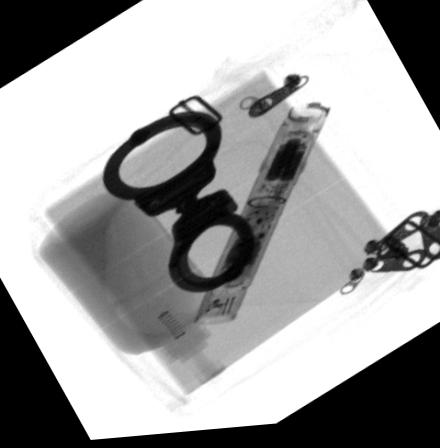Baton: (190, 104, 332, 330)
HandCuffs: (101, 111, 256, 299)
